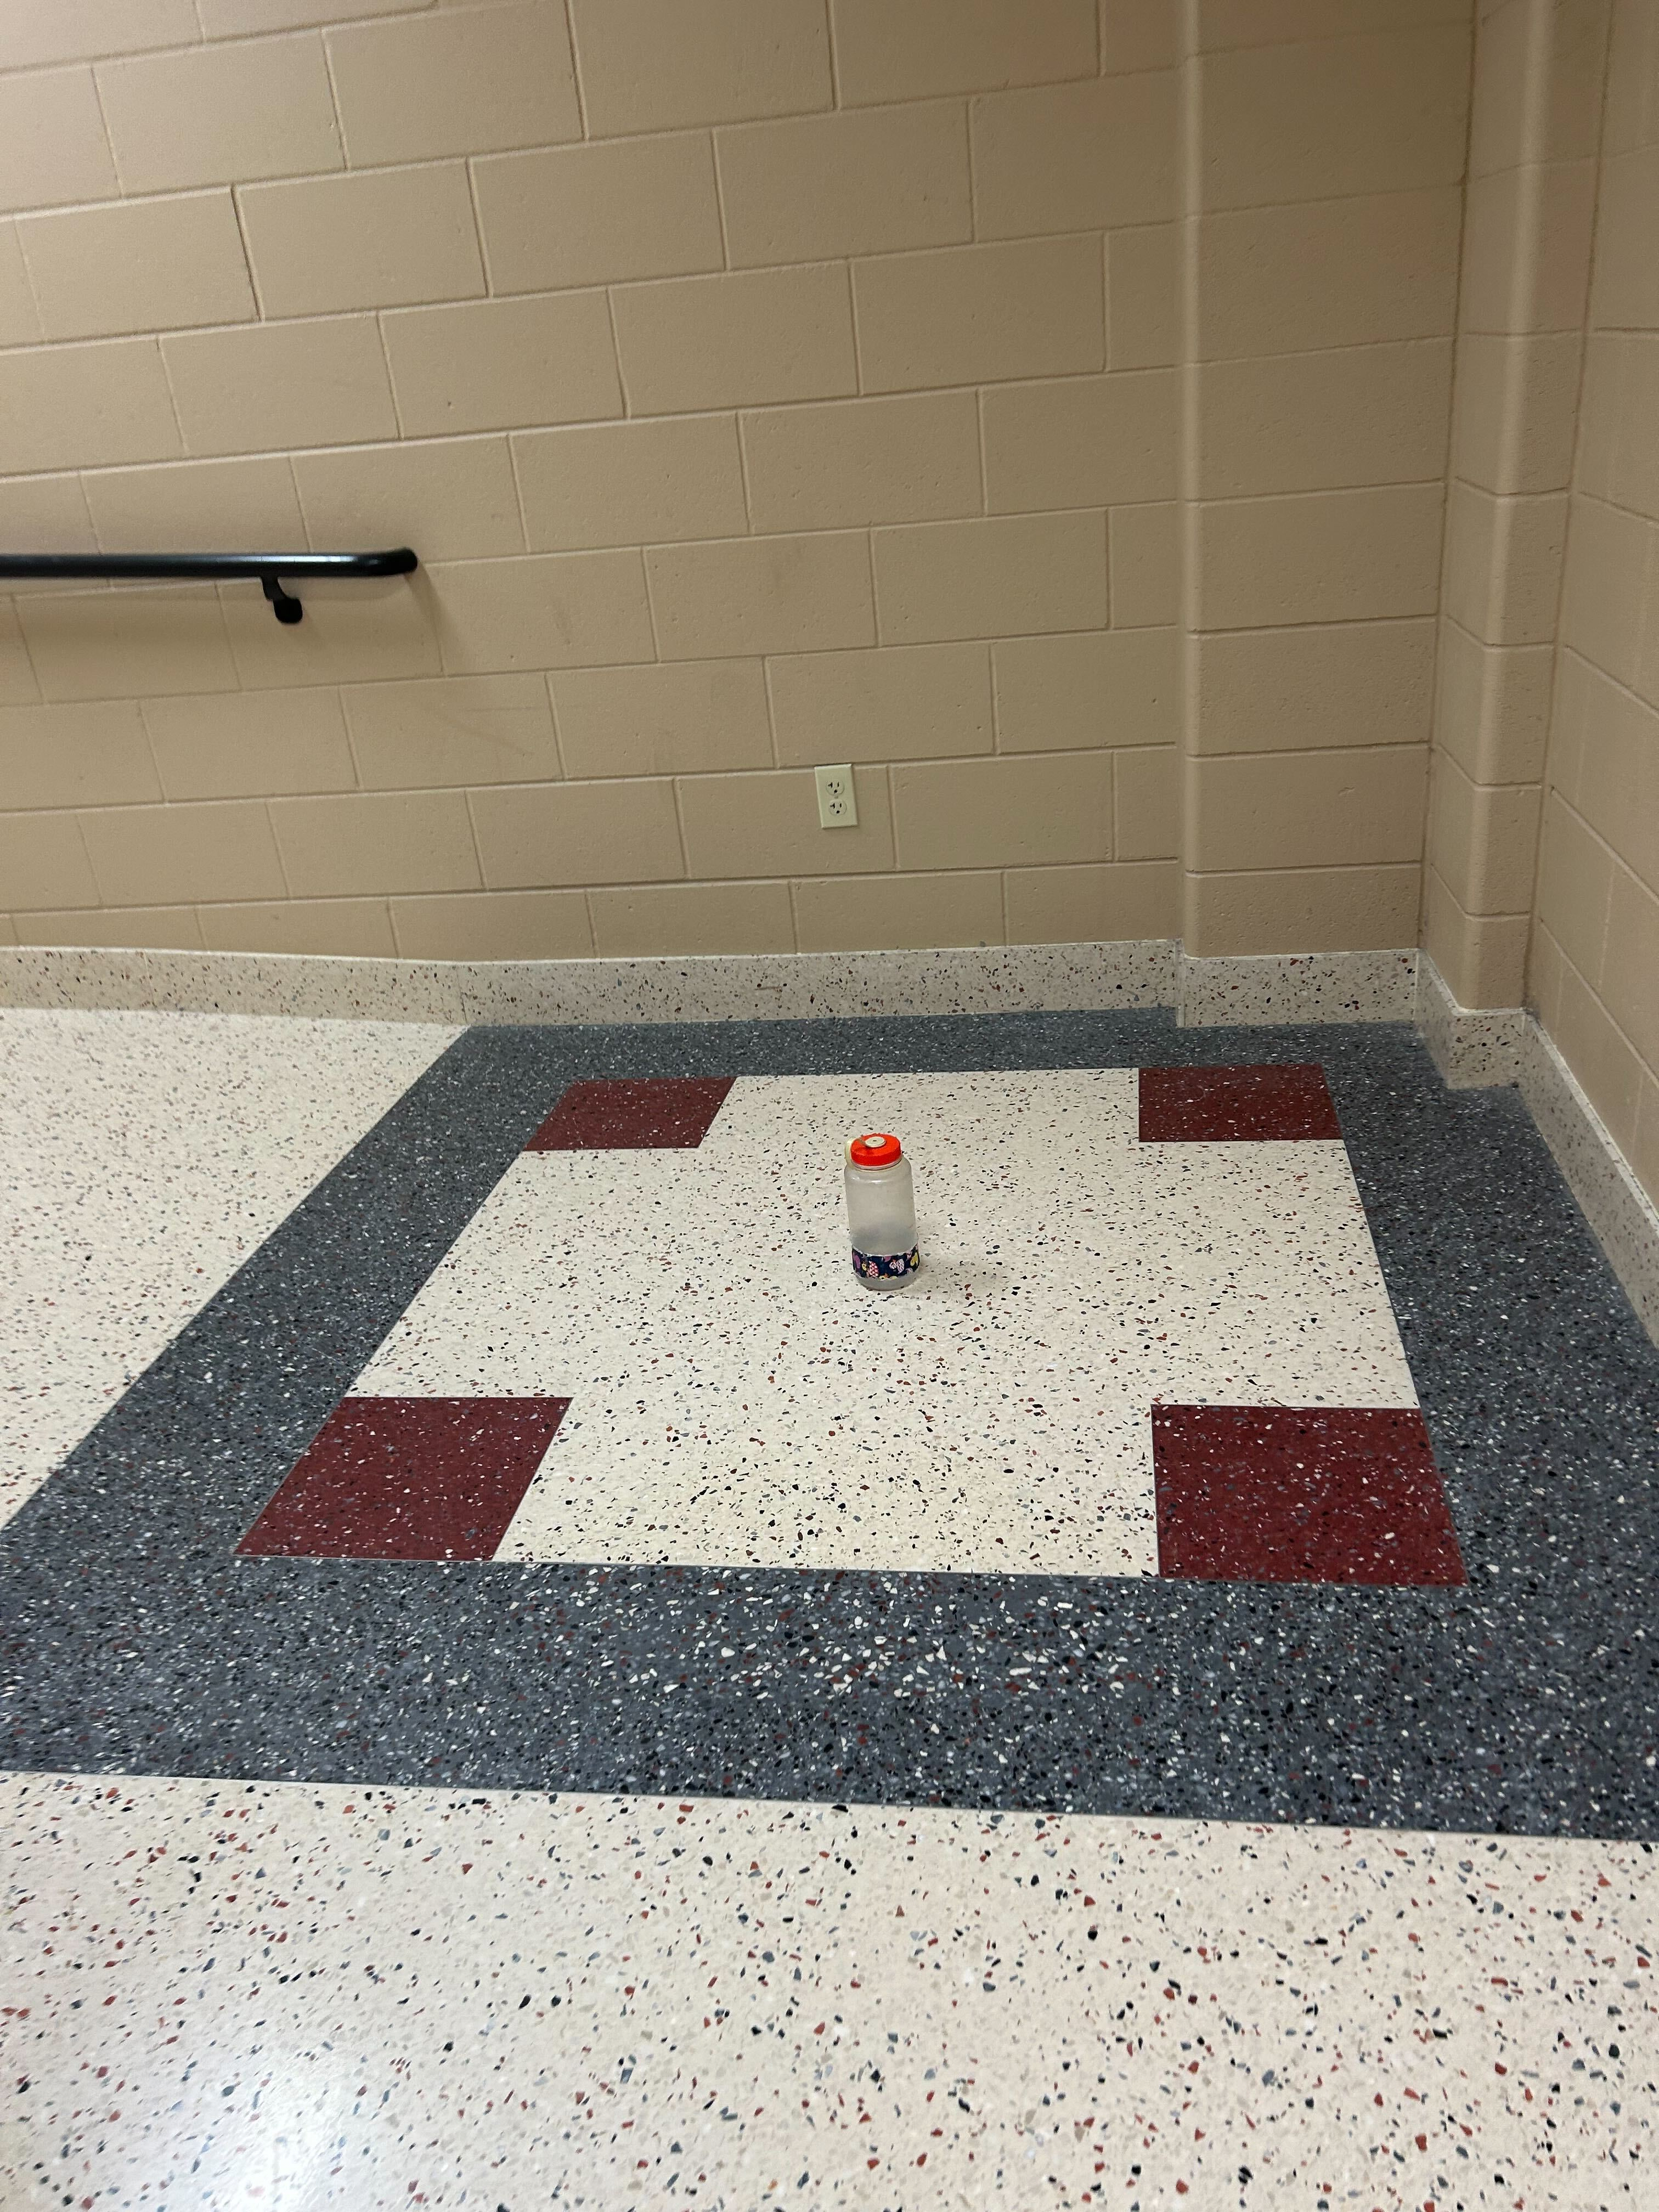bottle: (840, 1118, 924, 1299)
